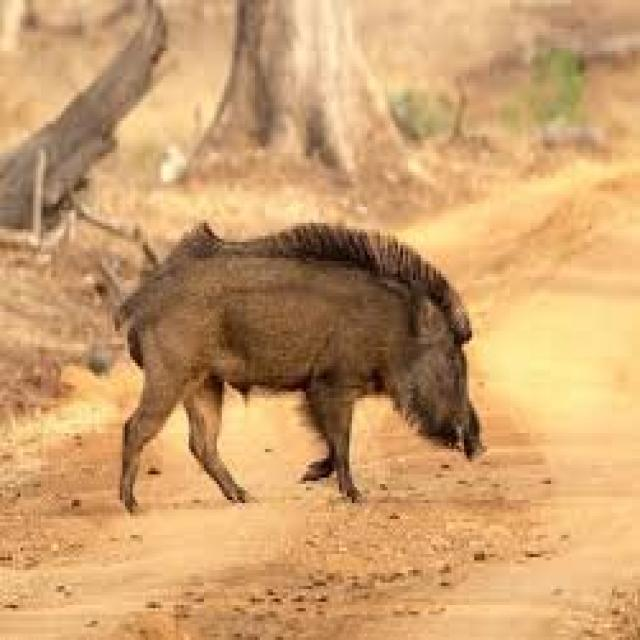Boar: (110, 223, 484, 510)
